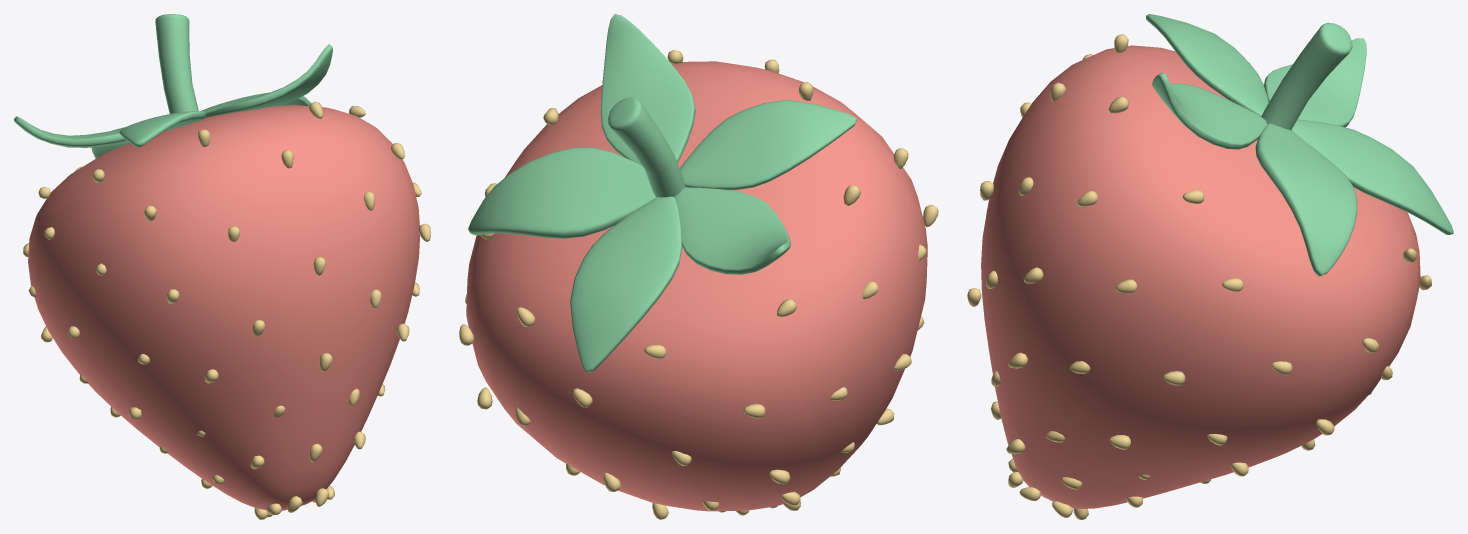
3 views of the same model, side by side, from view 1: azimuth 30°, elevation 25°; view 2: azimuth 150°, elevation 25°; view 3: azimuth 270°, elevation 25° (orthographic). The views are drawn at different scales.
Visible parts, largest first — view 1: strawberry, for cloner, leave (×2), rop, leave 4; view 2: strawberry, leave (×2), leave 3, leave 2, leave 4, for cloner, rop; view 3: strawberry, leave (×2), leave 3, for cloner, leave 2, rop, leave 4.
Part boxes in pixels (bbox=[...]): strawberry: bbox=[28, 105, 420, 510]; for cloner: bbox=[23, 101, 430, 519]; leave (×2): bbox=[119, 44, 332, 147]; rop: bbox=[155, 14, 198, 113]; leave 4: bbox=[14, 116, 127, 147]; strawberry: bbox=[466, 61, 927, 511]; leave (×2): bbox=[600, 14, 856, 190]; leave 3: bbox=[468, 147, 656, 238]; leave 2: bbox=[570, 196, 682, 372]; leave 4: bbox=[674, 187, 790, 274]; for cloner: bbox=[459, 50, 938, 519]; rop: bbox=[608, 97, 685, 197]; strawberry: bbox=[981, 45, 1420, 509]; leave (×2): bbox=[1146, 14, 1268, 149]; leave 3: bbox=[1255, 123, 1357, 276]; for cloner: bbox=[967, 34, 1431, 519]; leave 2: bbox=[1291, 119, 1453, 234]; rop: bbox=[1261, 22, 1352, 130]; leave 4: bbox=[1264, 38, 1366, 127].
Size of the model in its own units: 1.71 by 2.03 by 1.83.
